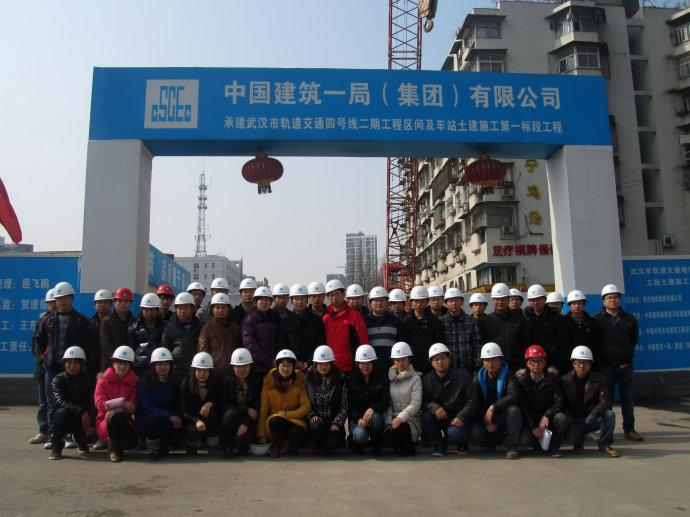helmet: (313, 345, 337, 365), (355, 345, 379, 365), (112, 346, 137, 365), (150, 347, 175, 366), (390, 342, 415, 361), (231, 348, 255, 367), (480, 343, 505, 361), (192, 352, 216, 370), (275, 349, 299, 366), (570, 347, 595, 363), (429, 344, 452, 361), (55, 282, 76, 300), (525, 345, 547, 362), (567, 290, 589, 307), (63, 347, 87, 362), (602, 284, 623, 301), (326, 279, 348, 295), (113, 288, 136, 303), (140, 294, 163, 309), (527, 284, 547, 301), (94, 289, 115, 305), (308, 282, 328, 298), (410, 286, 430, 302), (446, 287, 466, 303), (491, 283, 511, 299), (369, 287, 390, 302), (210, 293, 232, 307), (156, 285, 176, 300), (272, 283, 292, 298), (210, 277, 231, 291), (469, 293, 490, 307), (175, 293, 197, 306), (253, 287, 273, 301), (290, 284, 310, 298), (346, 285, 367, 298), (240, 278, 259, 292), (389, 289, 408, 303), (547, 292, 566, 305), (187, 283, 207, 295), (429, 286, 444, 300), (510, 288, 525, 301), (45, 289, 57, 304)
